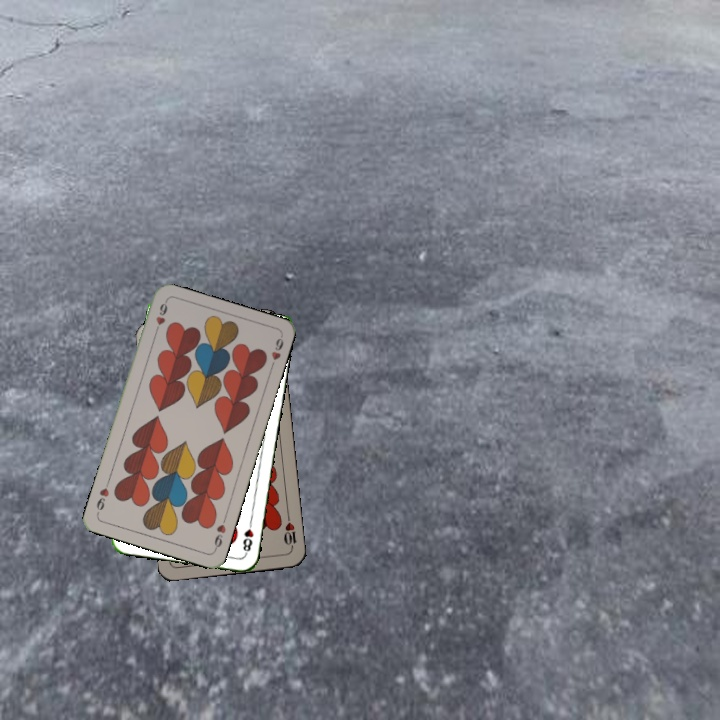H10: (280, 511, 299, 552)
H8: (239, 516, 256, 557)
H9: (210, 513, 229, 553), (151, 297, 170, 337)
